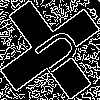U: (25, 25, 83, 82)
